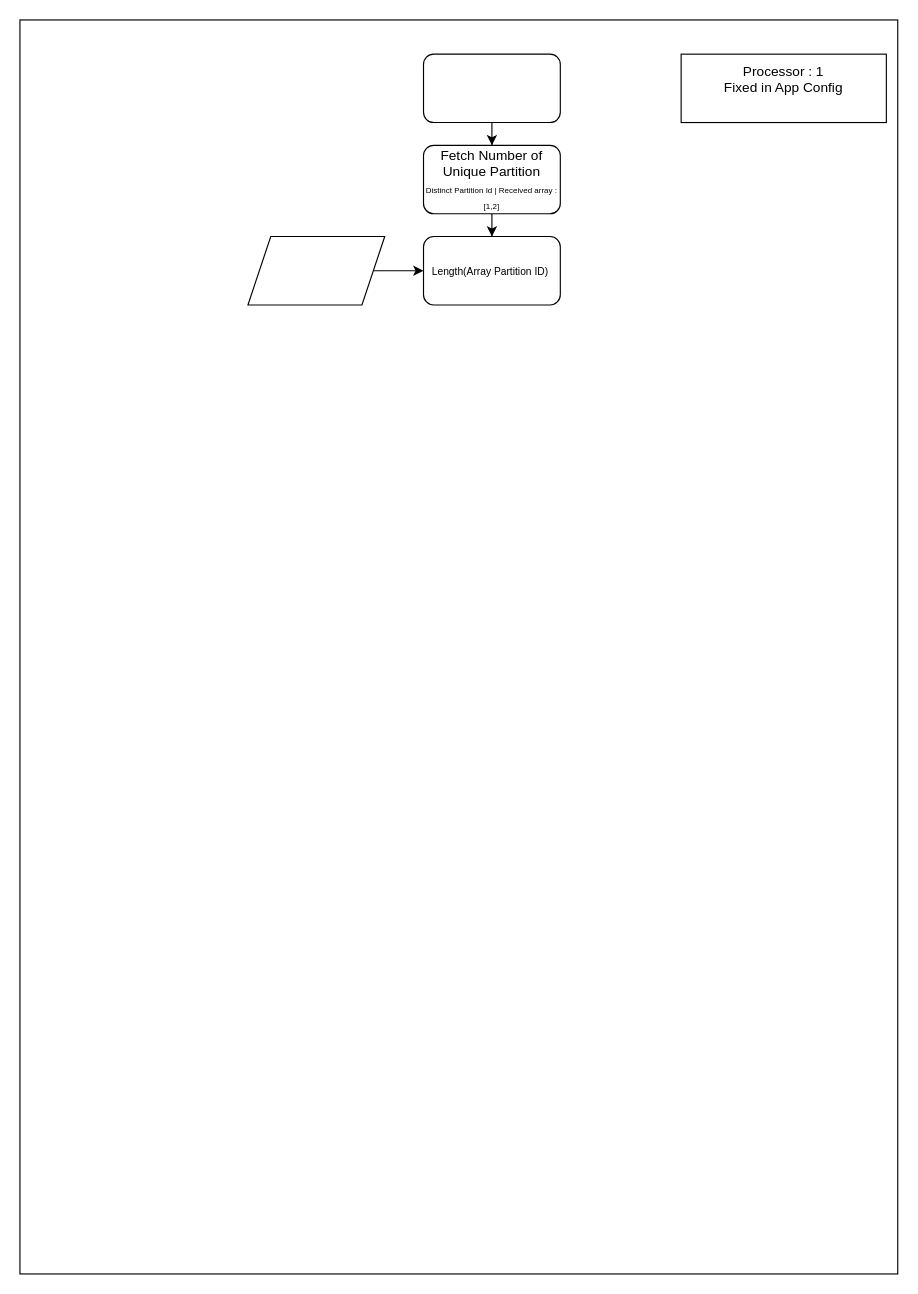
Some shapes in this 918 by 1294 pixel diagram are drawn without their labels. The shapes that lost their labels are listed below. From the top down, each one's centre as x and y in pixels, then its label:
(x=491, y=88): Fetch Data from Integrator Config ProcessorID : 1
(x=316, y=270): Var Total Request Holder = 0
